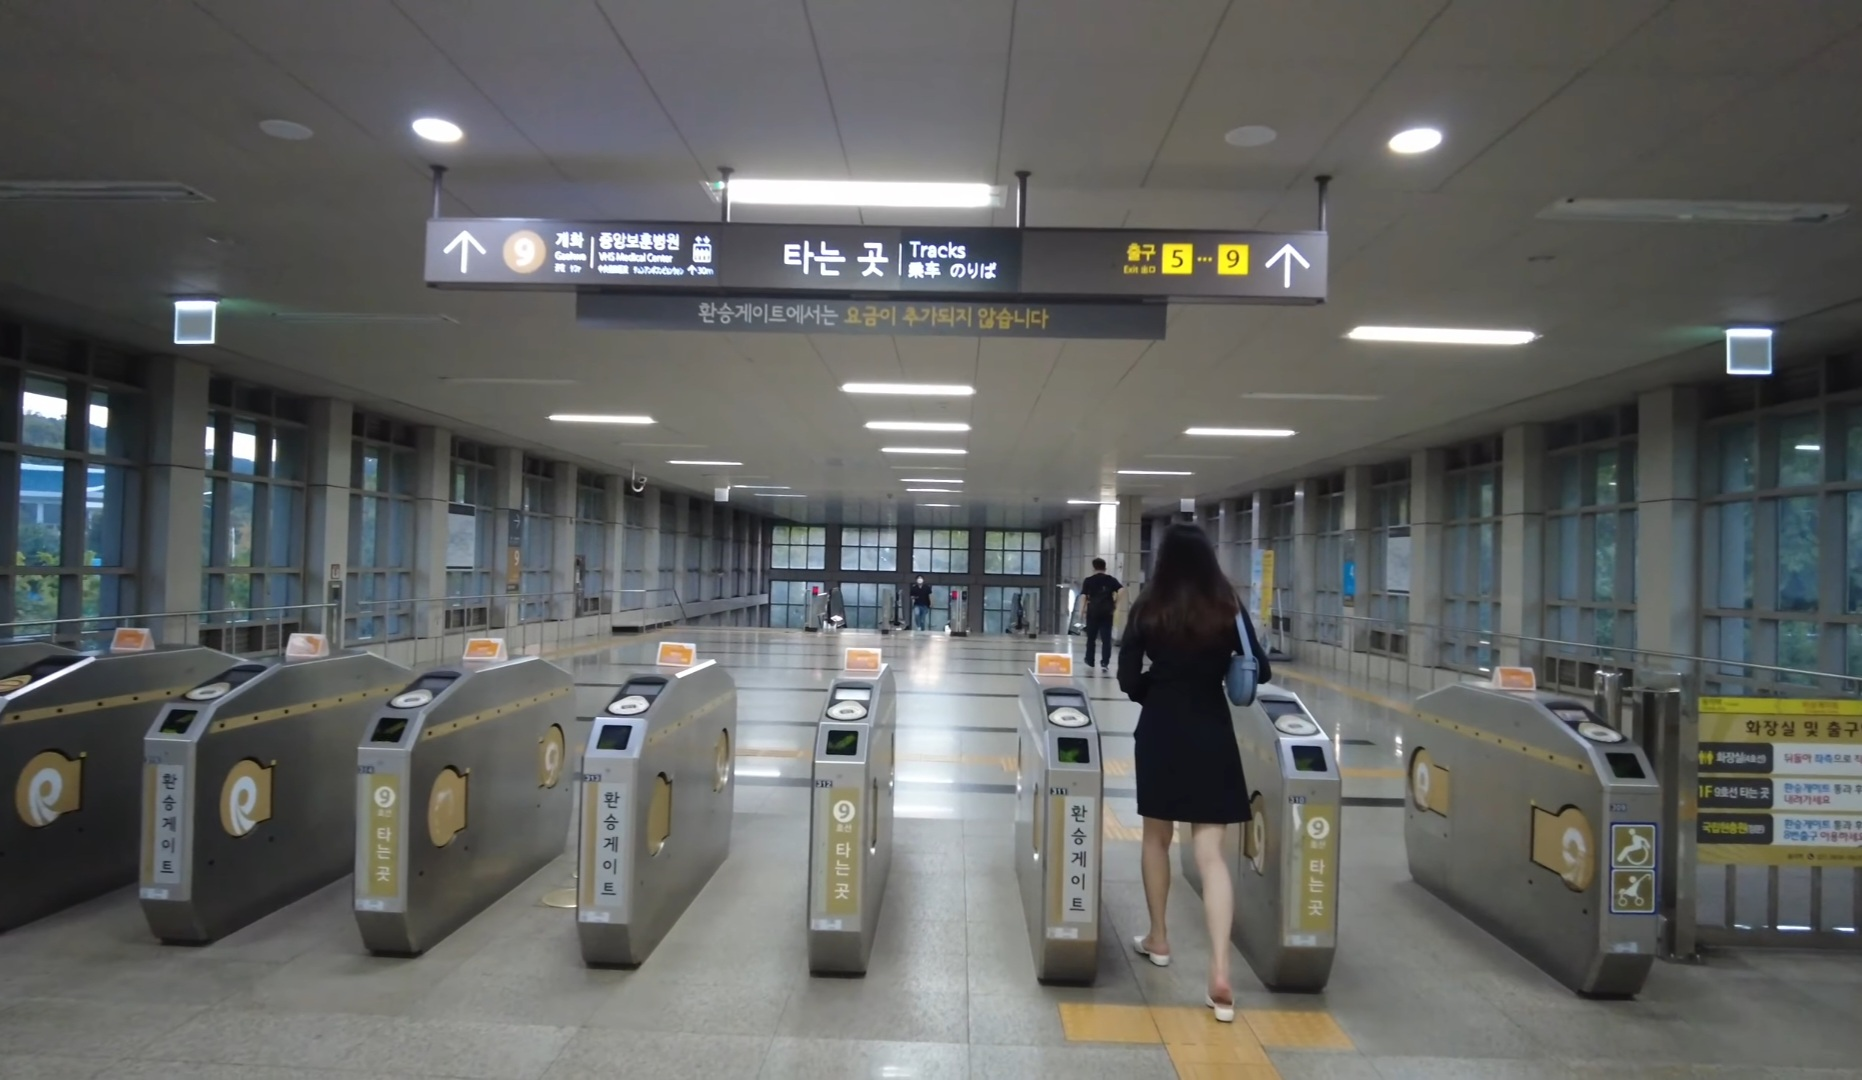signBoard: (397, 165, 1356, 321)
